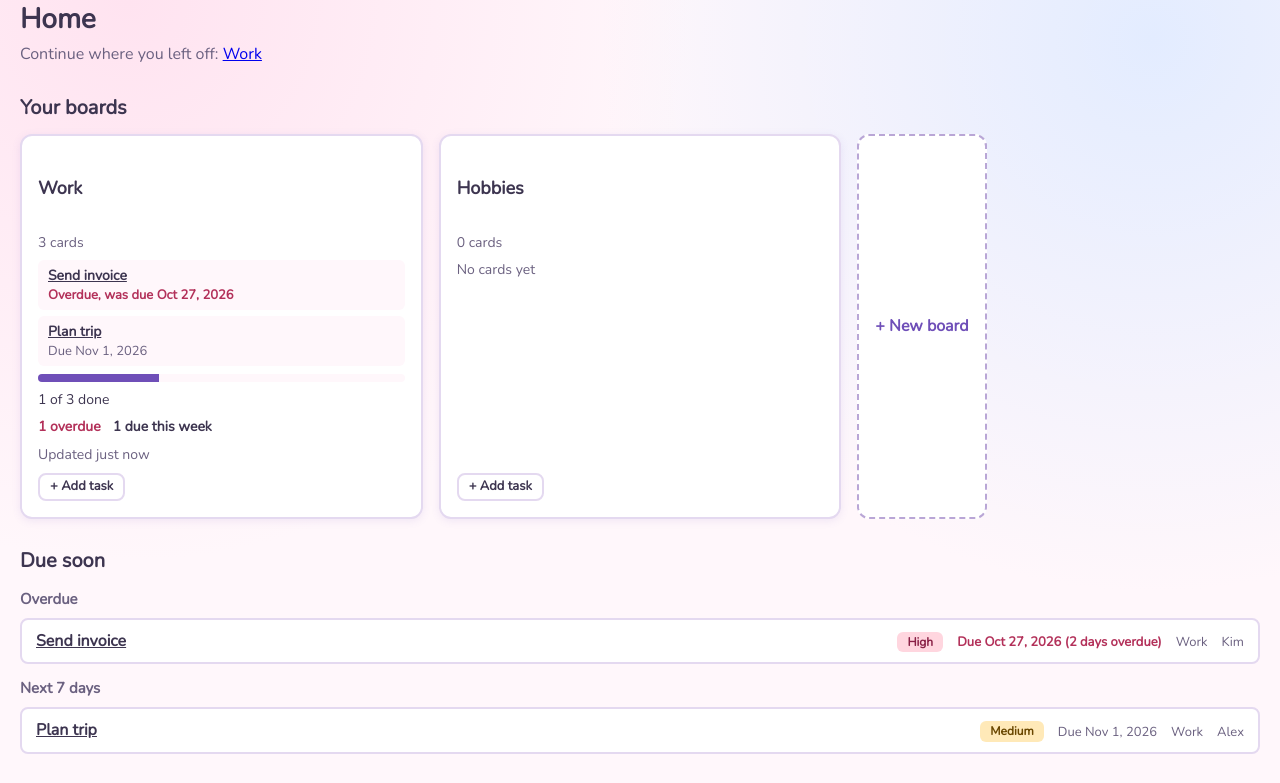
Test: adding a task from a tile › opens the form for that board, without leaving Home
Click the button with aria-label "Add task to Hobbies": (500, 487) [457,473,544,501]
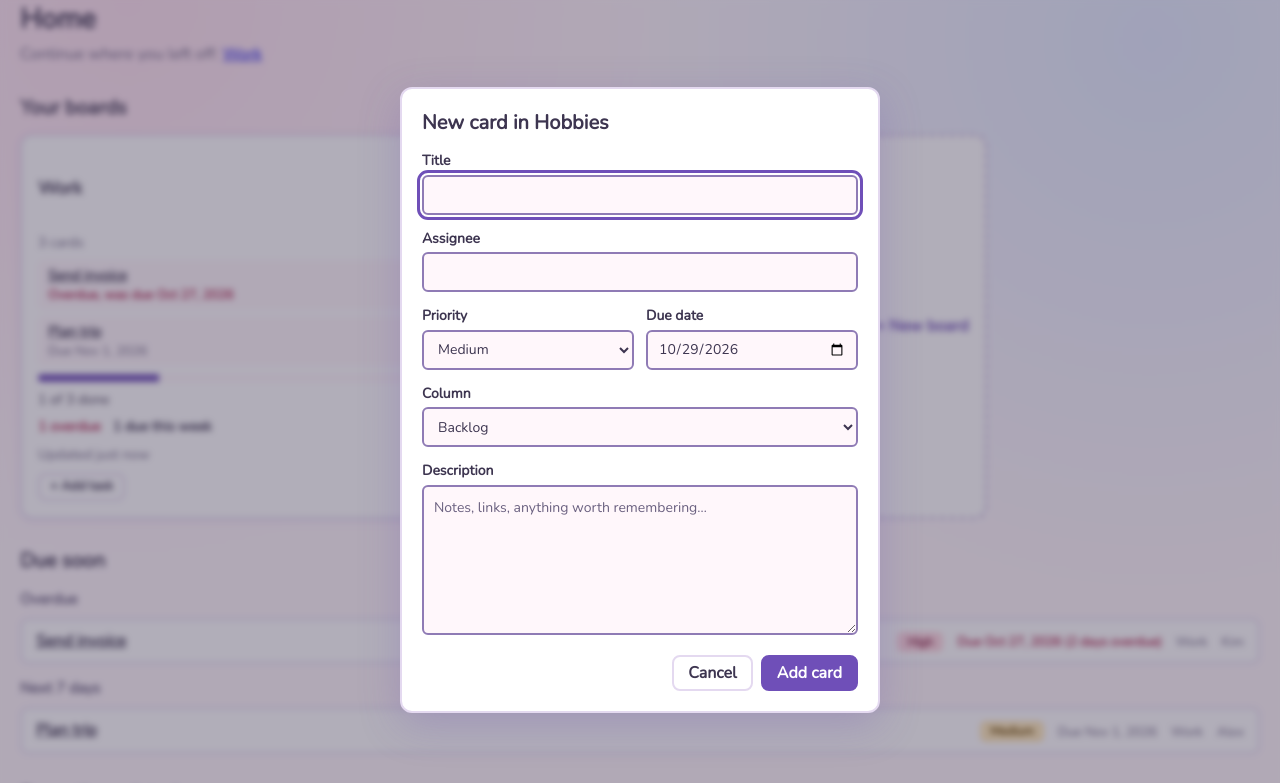
expect the heading "New card in Hobbies" is shown: met, box [422,109,609,136]
